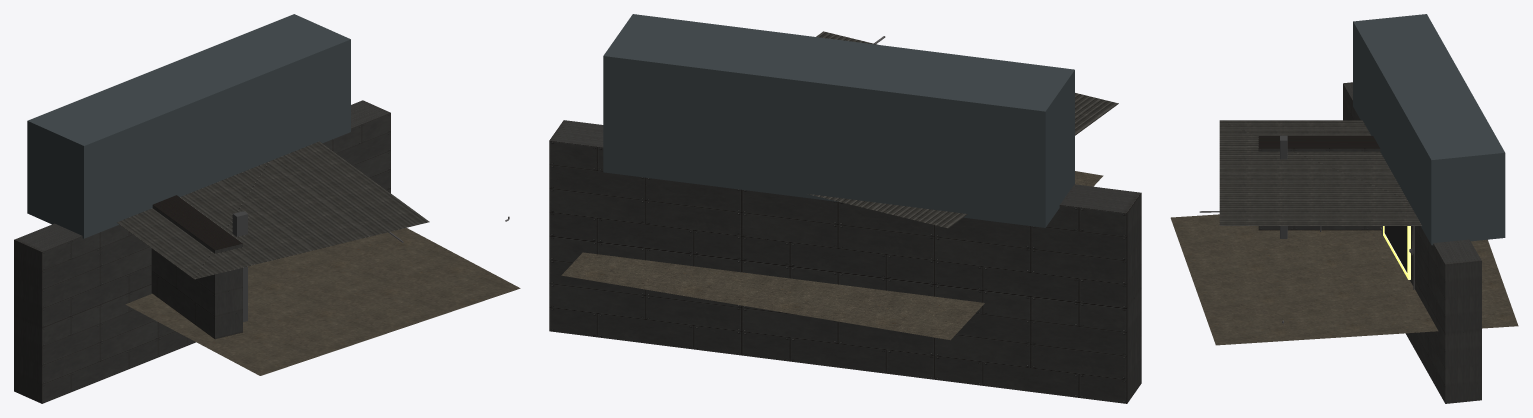
3 views of the same model, side by side, from view 1: azimuth 30°, elevation 25°; view 2: azimuth 150°, elevation 25°; view 3: azimuth 270°, elevation 25° (orthographic). The views are drawn at different scales.
Parts seen in each view (by area): view 1: Cube.008, Cube.001, Plane, Plane.001, Cube, Cube.007; view 2: Cube.001, Cube.008, Plane, Plane.001; view 3: Plane, Cube.008, Plane.001, Cube.001, Cube, Cube.013, frame.
Part boxes in pixels (x1,y1,x2,y2): Cube.008: (27, 14, 350, 238); Cube.001: (14, 100, 390, 403); Plane: (125, 228, 520, 375); Plane.001: (117, 141, 429, 279); Cube: (151, 195, 242, 339); Cube.007: (232, 211, 247, 321); Cube.001: (549, 120, 1141, 403); Cube.008: (603, 14, 1074, 227); Plane: (561, 171, 1103, 340); Plane.001: (808, 31, 1118, 228); Plane: (1170, 214, 1518, 345); Cube.008: (1353, 14, 1505, 245); Plane.001: (1219, 120, 1421, 225); Cube.001: (1343, 82, 1481, 403); Cube: (1258, 136, 1381, 230); Cube.013: (1384, 226, 1407, 272); frame: (1383, 226, 1410, 279).
Size of the model in its own units: 58.64 by 30.62 by 43.43.
Materials: 15 (4 with a texture image).
